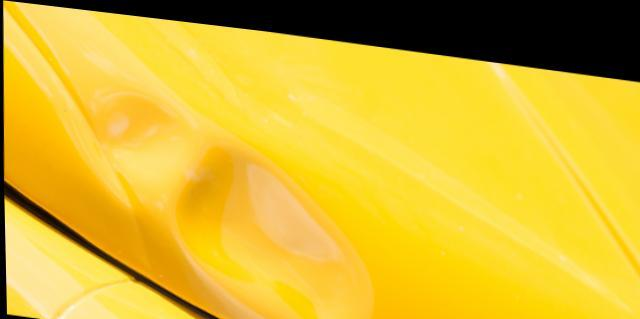dent: (173, 145, 367, 319), (92, 91, 189, 197)
